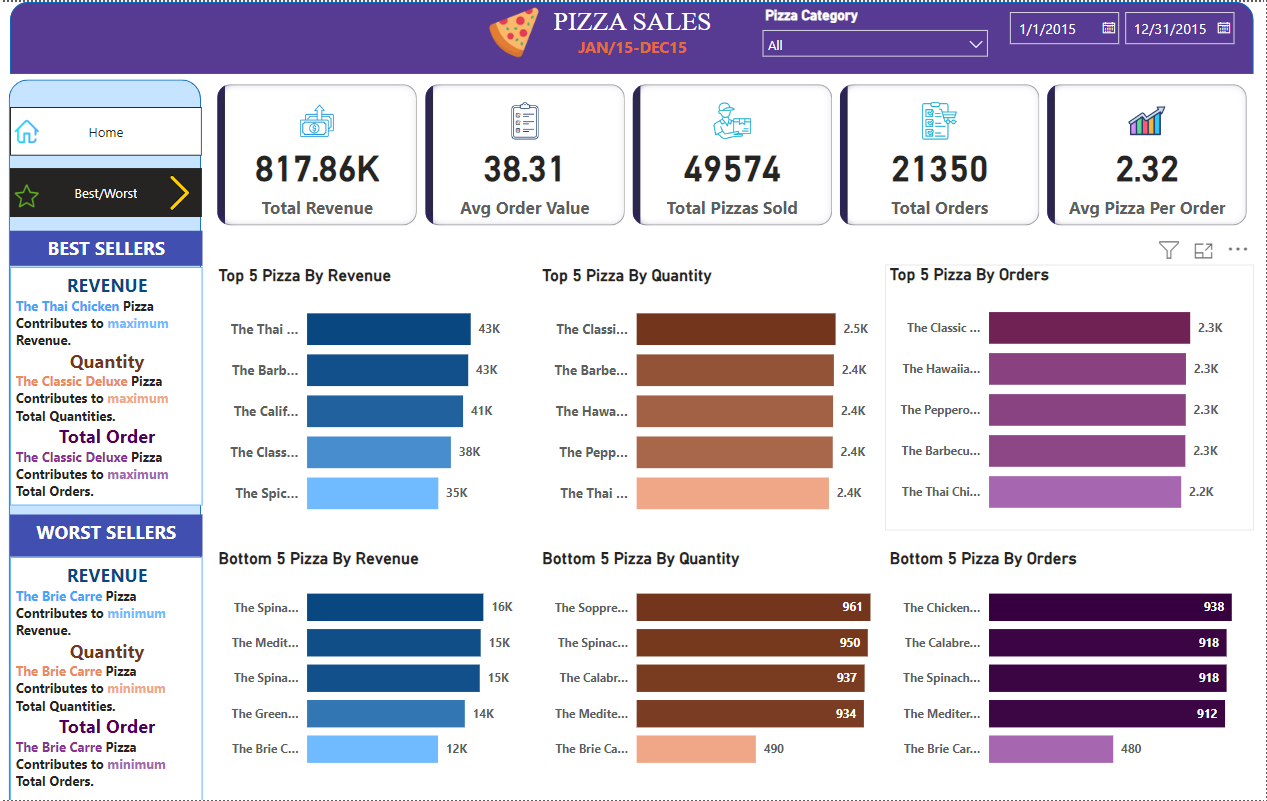

What the dashboard file says about the page in this screenshot:
{"tool":"powerbi","page":{"name":"Best/Worst","canvas":[1300,820],"ordinal":1},"visuals":[{"type":"shape","box":[9.1,79.1,197.3,740.9],"z":0},{"type":"textbox","box":[9.7,235.3,197.7,36.2],"z":1000},{"type":"cardVisual","fields":{"Data":["pizza_sales.Total Revenue","pizza_sales.Avg Order Value","pizza_sales.Total Pizzas Sold","pizza_sales.Total Orders","pizza_sales.Avg Pizza Per Order"]},"box":[218.6,79.4,1067.8,155.9],"z":2000},{"type":"shape","box":[10,0,1276.7,74],"z":3000},{"type":"textbox","box":[551.9,0,195.1,62.7],"z":4000},{"type":"image","box":[487.3,0,79.4,62.6],"z":5000},{"type":"textbox","box":[9.7,271.5,197.7,245],"z":6000},{"type":"textbox","box":[9.7,526.2,197.7,43.2],"z":7000},{"type":"textbox","box":[9.7,569.4,197.7,250.6],"z":8000},{"type":"slicer","fields":{"Values":["pizza_sales.pizza_category"]},"box":[772.7,0,252,73.8],"z":9000},{"type":"slicer","fields":{"Values":["pizza_sales.order_date"]},"box":[1024.7,0,252,73.8],"z":10000},{"type":"barChart","title":"Top 5 Pizza By Revenue","fields":{"Y":["pizza_sales.Total Revenue"],"Category":["pizza_sales.pizza_name"]},"box":[218.8,270.4,333.1,273.2],"z":11000},{"type":"barChart","title":"Top 5 Pizza By Quantity","fields":{"Y":["pizza_sales.Total Pizzas Sold"],"Category":["pizza_sales.pizza_name"]},"box":[551.9,270.4,356.8,273.2],"z":12000},{"type":"barChart","title":"Top 5 Pizza By Orders","fields":{"Y":["pizza_sales.Total Orders"],"Category":["pizza_sales.pizza_name"]},"box":[909,270,378,273],"z":13000},{"type":"barChart","title":"Bottom 5 Pizza By Revenue","fields":{"Y":["pizza_sales.Total Revenue"],"Category":["pizza_sales.pizza_name"]},"box":[218.8,560.3,333.1,241.1],"z":14000},{"type":"barChart","title":"Bottom 5 Pizza By Quantity","fields":{"Y":["pizza_sales.Total Pizzas Sold"],"Category":["pizza_sales.pizza_name"]},"box":[551.9,560.3,356.8,241.1],"z":15000},{"type":"barChart","title":"Bottom 5 Pizza By Orders","fields":{"Y":["pizza_sales.Total Orders"],"Category":["pizza_sales.pizza_name"]},"box":[908.7,560.3,377.7,241.1],"z":16000},{"type":"pageNavigator","box":[9.7,171.2,197.7,50.1],"z":17000},{"type":"pageNavigator","box":[9.7,107.2,197.7,50.1],"z":18000},{"type":"image","box":[161.5,171.2,45.9,50.1],"z":19000},{"type":"image","box":[9.7,171.2,34.8,57.1],"z":20000},{"type":"image","box":[9.7,107.2,34.8,50.1],"z":21000}]}

Visuals, with their boxes in screenshot pixels (x1, y1, x2, y2), scaled from the page's 1300x820 canvas onto the 1267x801 screenshot:
shape: [x1=9, y1=77, x2=201, y2=800]
textbox: [x1=9, y1=230, x2=202, y2=265]
cardVisual - pizza_sales.Total Revenue x pizza_sales.Avg Order Value: [x1=213, y1=78, x2=1254, y2=230]
shape: [x1=10, y1=0, x2=1254, y2=72]
textbox: [x1=538, y1=0, x2=728, y2=61]
image: [x1=475, y1=0, x2=552, y2=61]
textbox: [x1=9, y1=265, x2=202, y2=505]
textbox: [x1=9, y1=514, x2=202, y2=556]
textbox: [x1=9, y1=556, x2=202, y2=800]
slicer - pizza_sales.pizza_category: [x1=753, y1=0, x2=999, y2=72]
slicer - pizza_sales.order_date: [x1=999, y1=0, x2=1244, y2=72]
"Top 5 Pizza By Revenue" barChart: [x1=213, y1=264, x2=538, y2=531]
"Top 5 Pizza By Quantity" barChart: [x1=538, y1=264, x2=886, y2=531]
"Top 5 Pizza By Orders" barChart: [x1=886, y1=264, x2=1254, y2=530]
"Bottom 5 Pizza By Revenue" barChart: [x1=213, y1=547, x2=538, y2=783]
"Bottom 5 Pizza By Quantity" barChart: [x1=538, y1=547, x2=886, y2=783]
"Bottom 5 Pizza By Orders" barChart: [x1=886, y1=547, x2=1254, y2=783]
pageNavigator: [x1=9, y1=167, x2=202, y2=216]
pageNavigator: [x1=9, y1=105, x2=202, y2=154]
image: [x1=157, y1=167, x2=202, y2=216]
image: [x1=9, y1=167, x2=43, y2=223]
image: [x1=9, y1=105, x2=43, y2=154]
